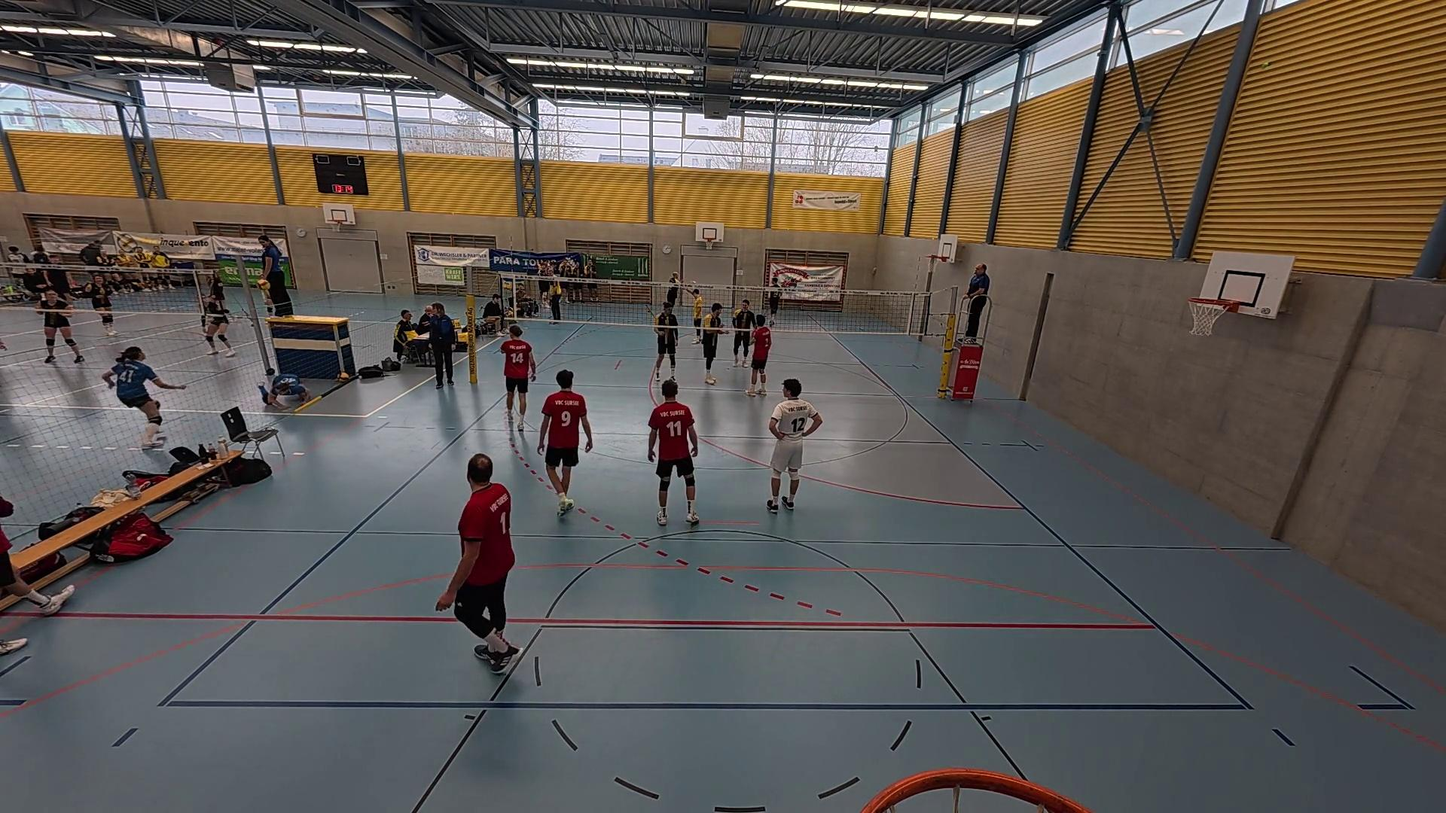Player: (438, 453, 519, 671), (645, 380, 701, 526), (540, 370, 593, 513), (766, 379, 822, 512), (497, 321, 535, 432), (648, 301, 679, 382), (745, 315, 774, 398), (697, 306, 724, 385), (728, 297, 755, 370), (663, 268, 698, 319), (686, 282, 709, 349), (766, 272, 785, 331)
